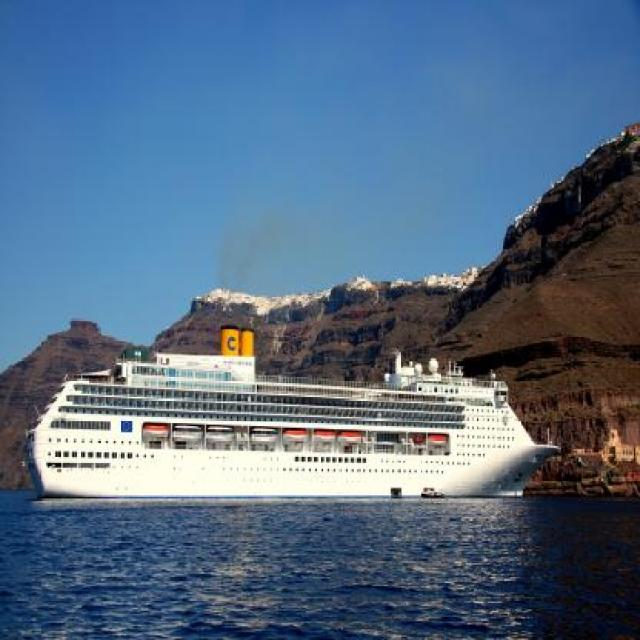ship: (22, 324, 560, 499), (419, 485, 435, 497), (435, 488, 443, 498)
